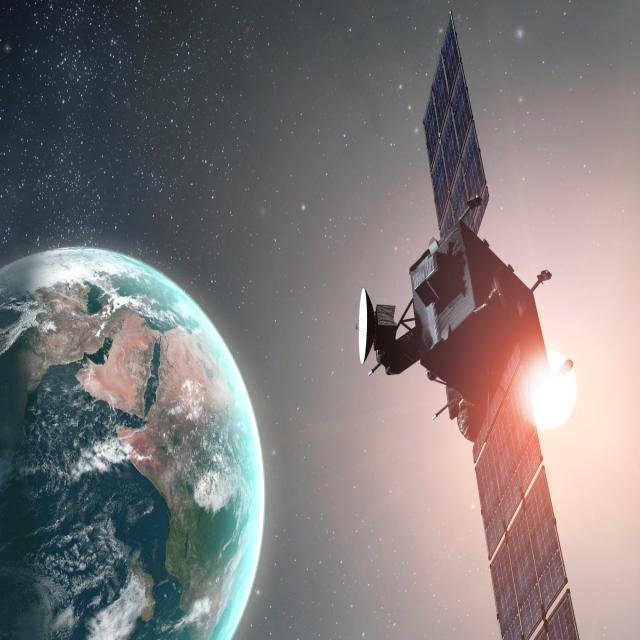satellite: (350, 11, 586, 640)
